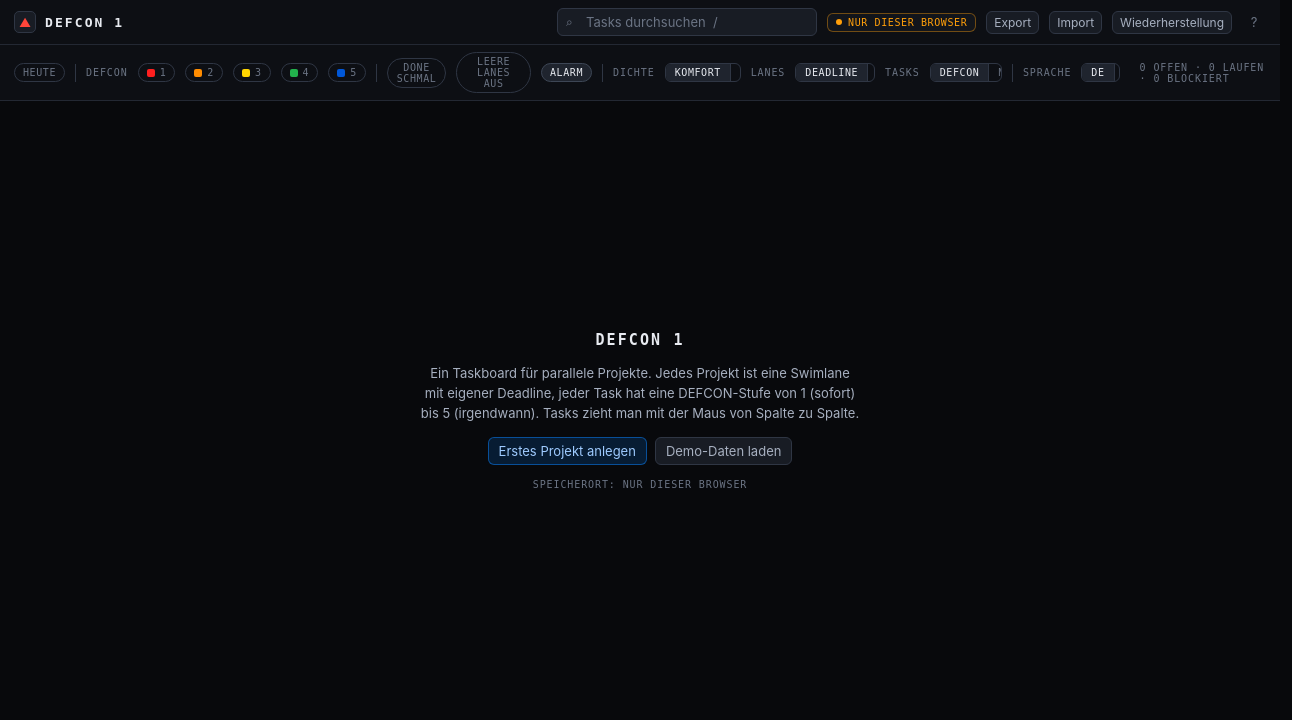
it: App › renders every status column and every project swimlane
The image size is (1292, 720).
Click the button "Demo-Daten laden" at (724, 451), box [655,437,792,465]
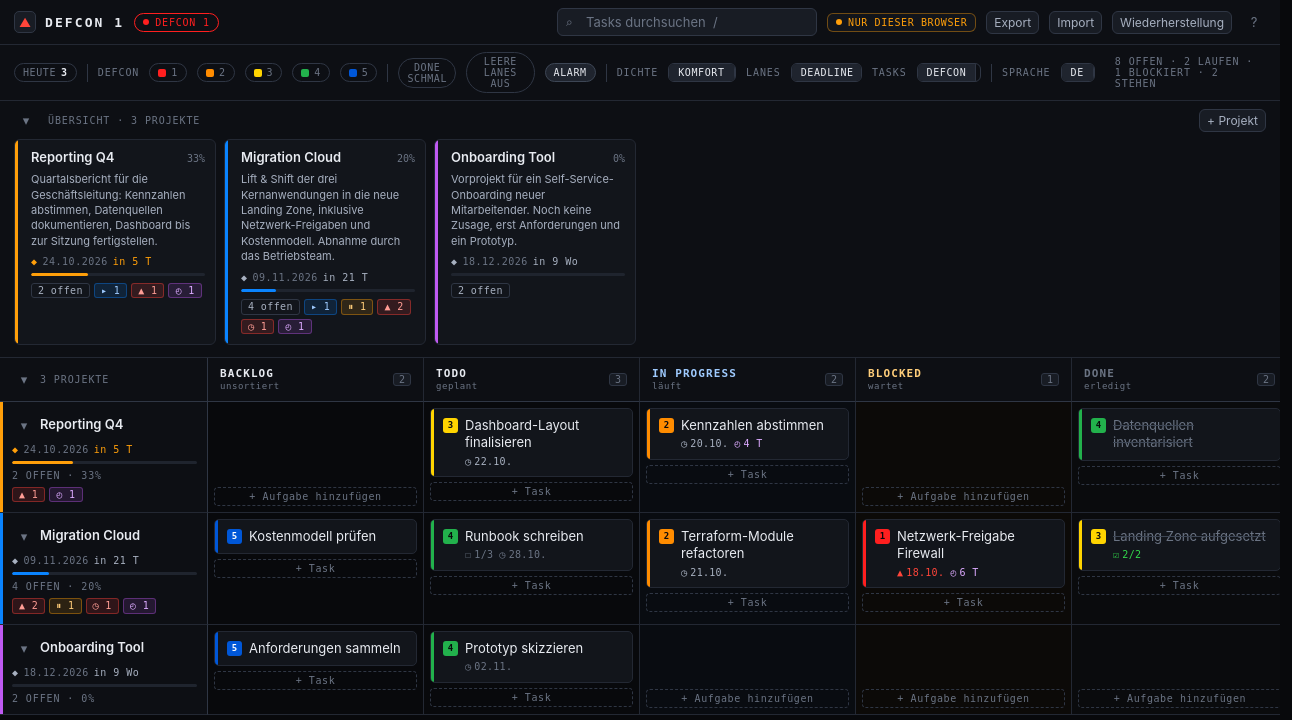
Expected: the text "Backlog" is shown, [220,367,280,380]
Expected: the text "Todo" is shown, [436,367,467,380]
Expected: the text "In Progress" is shown, [652,367,737,380]
